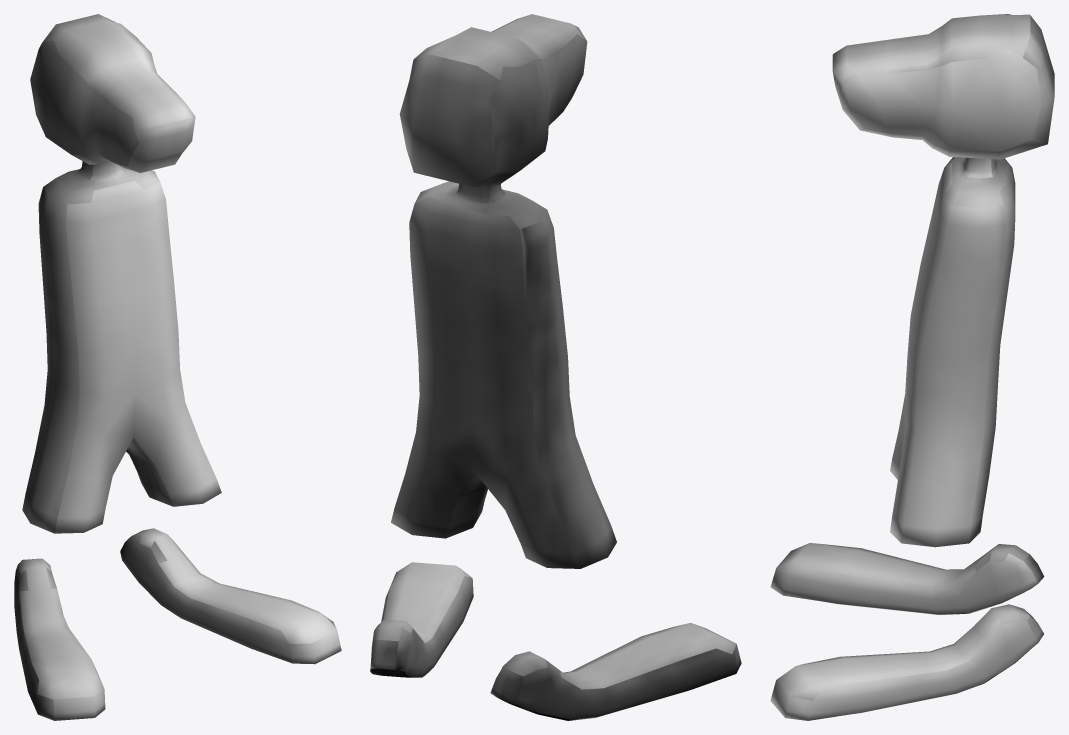
Rendered from test_3Dharry01.fbx.
3 renders of one model, left to right at view 1: azimuth 30°, elevation 25°; view 2: azimuth 150°, elevation 25°; view 3: azimuth 270°, elevation 25°, orthographic. The views are drawn at different scales.
Parts seen in each view (by area): view 1: pCube13_DUP; view 2: pCube13_DUP; view 3: pCube13_DUP.
Part boxes in pixels (left/top/right/bottom): pCube13_DUP: left=14, top=14, right=341, bottom=720; pCube13_DUP: left=370, top=14, right=741, bottom=720; pCube13_DUP: left=770, top=14, right=1054, bottom=720.
Size of the model in its own units: 0.4681 by 0.8759 by 0.3646.
Materials: 1 (1 with a texture image).
